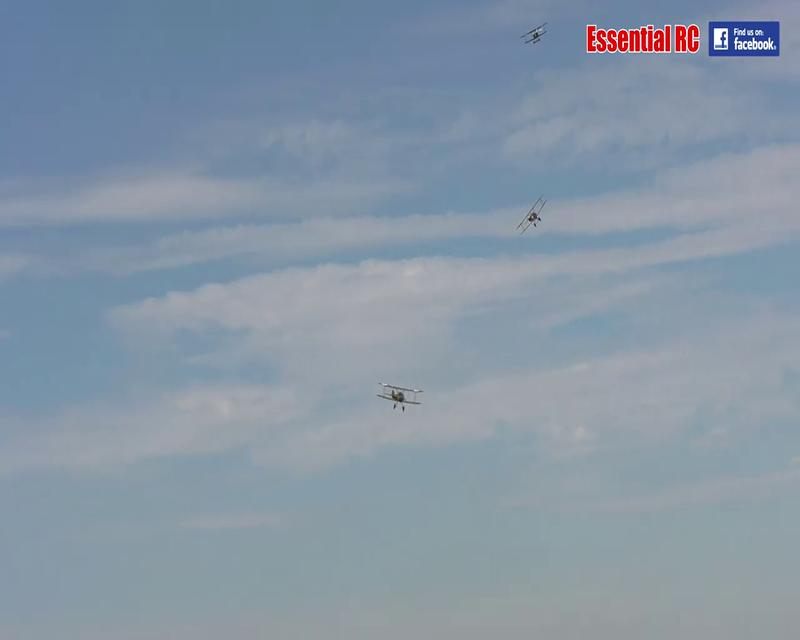UAV: (514, 190, 548, 234), (376, 381, 424, 412), (518, 20, 550, 44)
